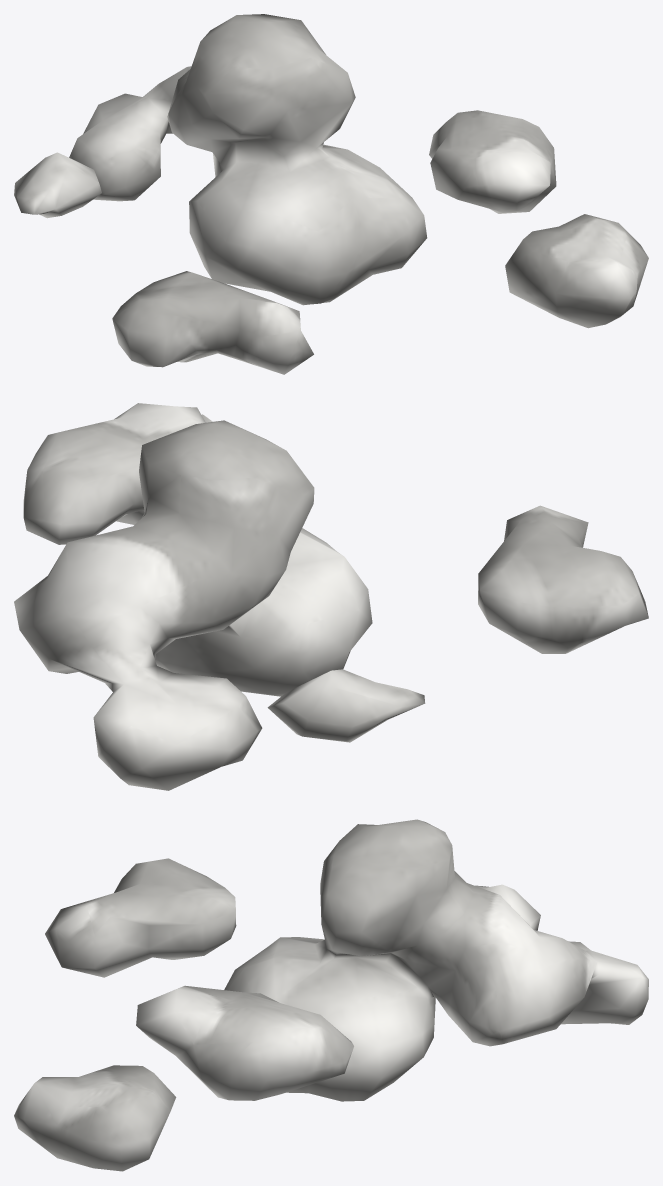
File: snow_pile_b.glb
3 views of the same model, one above another, from view 1: azimuth 30°, elevation 25°; view 2: azimuth 150°, elevation 25°; view 3: azimuth 270°, elevation 25° (orthographic). The views are drawn at different scales.
Parts seen in each view (by area): view 1: prop_snow_pile_b_felt; view 2: prop_snow_pile_b_felt; view 3: prop_snow_pile_b_felt.
Boxes of the visible parts, x1=… form: prop_snow_pile_b_felt: x1=14, y1=14, x2=648, y2=374; prop_snow_pile_b_felt: x1=14, y1=403, x2=648, y2=790; prop_snow_pile_b_felt: x1=14, y1=819, x2=648, y2=1171.
Bounding box in the file's own units: 1.06 × 0.4927 × 1.13.
Materials: 1 (1 with a texture image).
